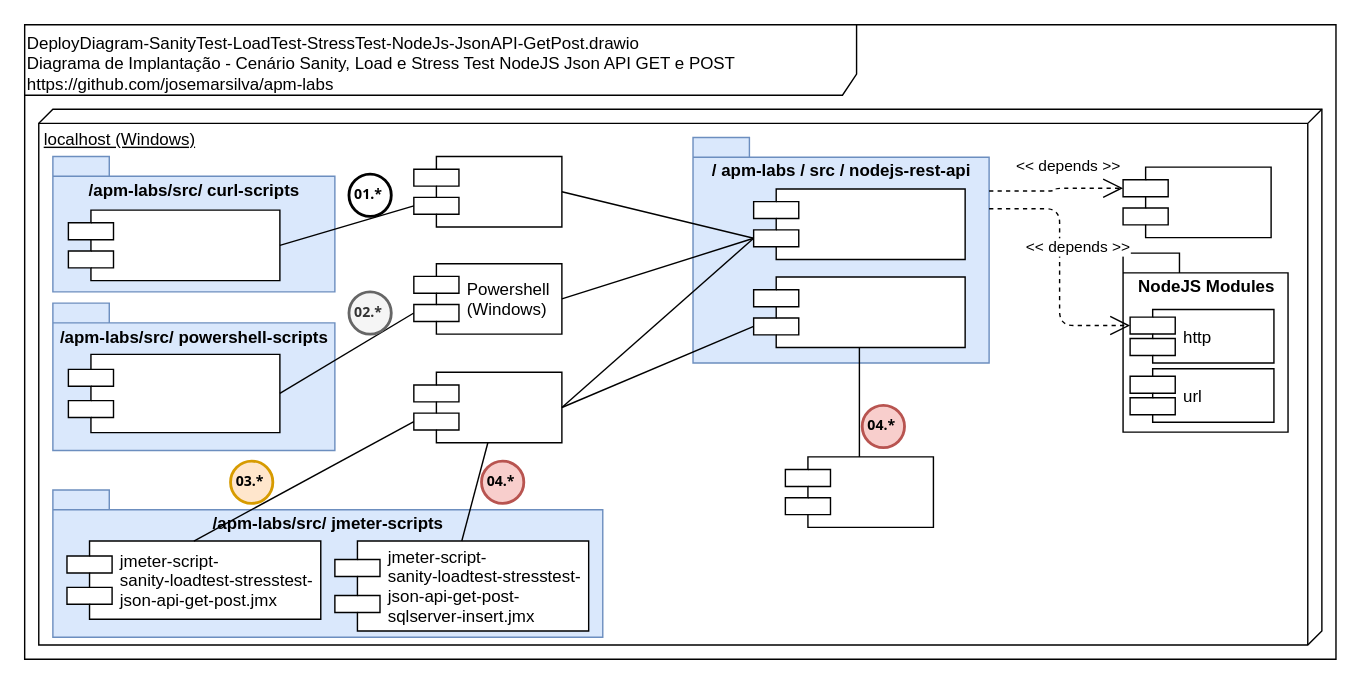
Some shapes in this 1361 by 684 pixel diagram are drawn without their labels. Each missing label, with the centre of its shape:
"Apache JMeter" belongs at [487,407].
"app-nodejs-rest- api-get-post- sqlserver-insert.js" belongs at [858,312].
"app-nodejs-rest- api-get-post.js" belongs at [858,223].
"curl (windows)" belongs at [487,191].
"NodeJS" belongs at [1196,202].
"powershell-script- sanity-json-api- get-post.ps1" belongs at [173,393].
"SQLServer" belongs at [858,491].
"win-cmd-curl-script- sanity-json-api- get.bat" belongs at [173,245].
